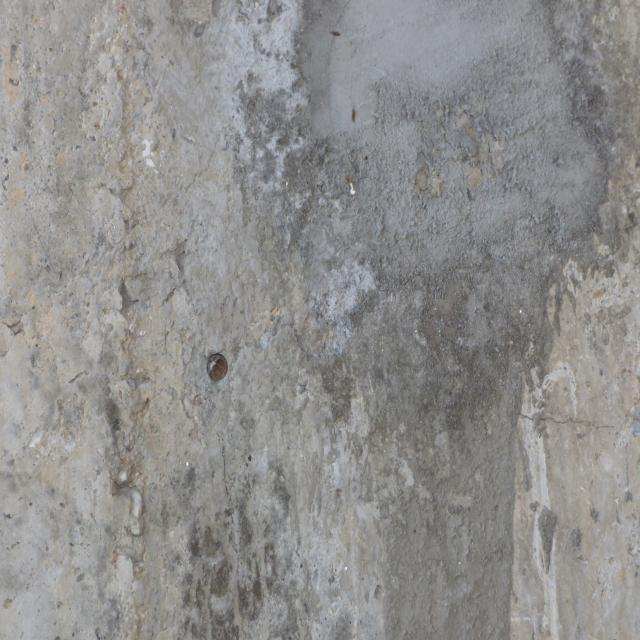corrosion: (202, 344, 232, 390)
